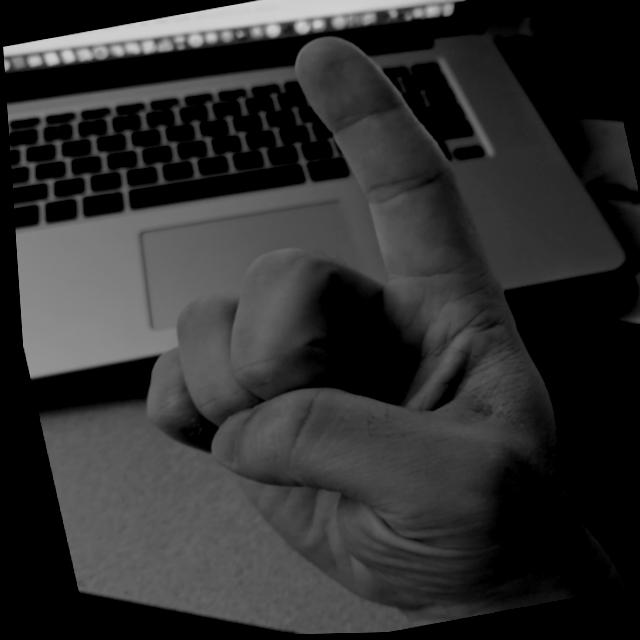D: (58, 4, 601, 638)
